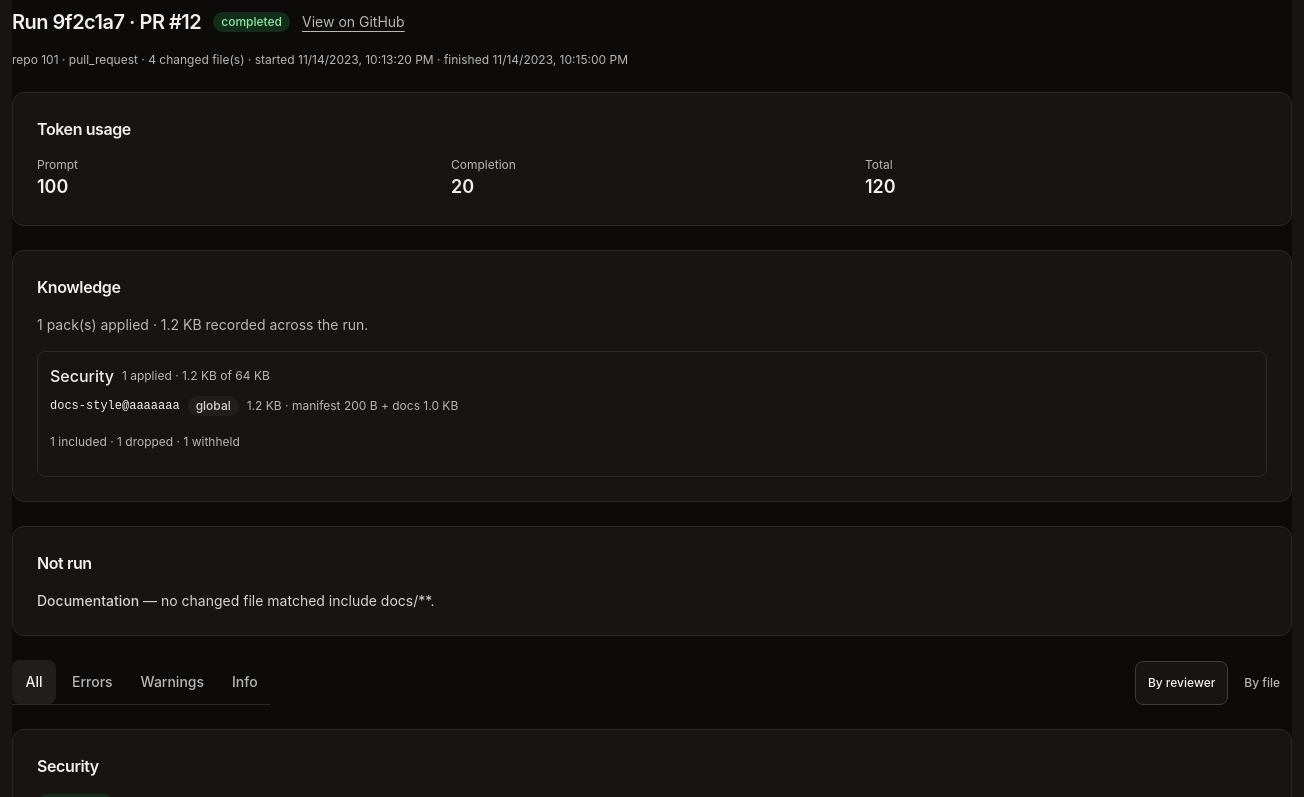
Test case: RunDetailPage › shows the knowledge record with its dropped and withheld files
Expected: the heading "Knowledge" is shown, [37, 277, 120, 297]
Expected: the text "docs-style@aaaaaaa" is shown, [50, 398, 180, 414]
Click the heading "1 included · 1 dropped · 1 withheld". click: (145, 442)
box: [50, 434, 240, 449]
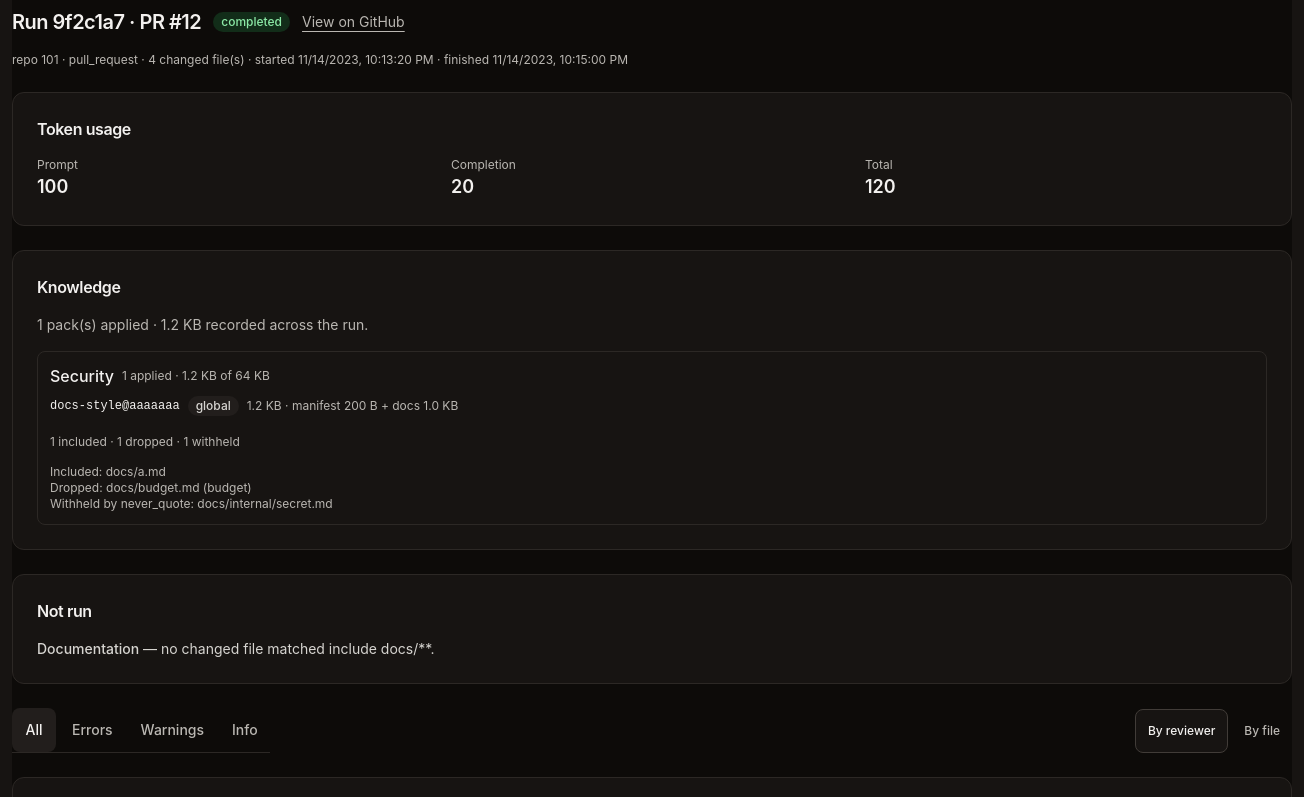
Expected: the text "Dropped: docs/budget.md (budget)" is shown, [50, 480, 252, 495]
Expected: the text "Withheld by never_quote: docs/internal/secret.md" is shown, [50, 496, 333, 511]
